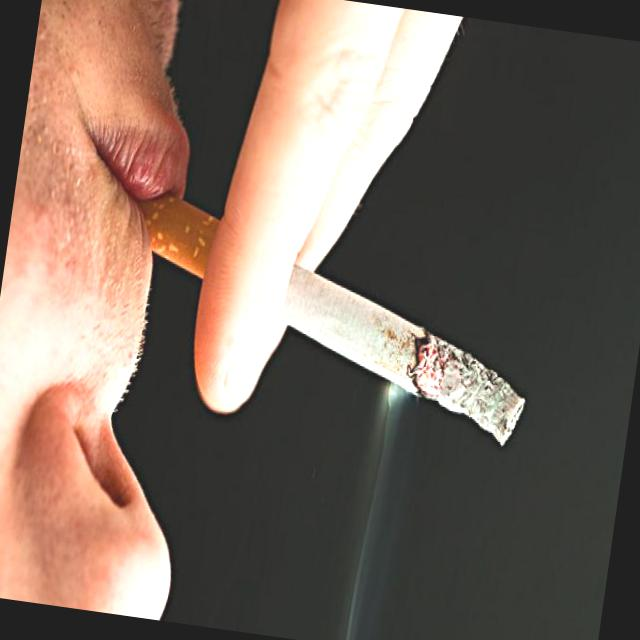smoke: (100, 180, 557, 465)
